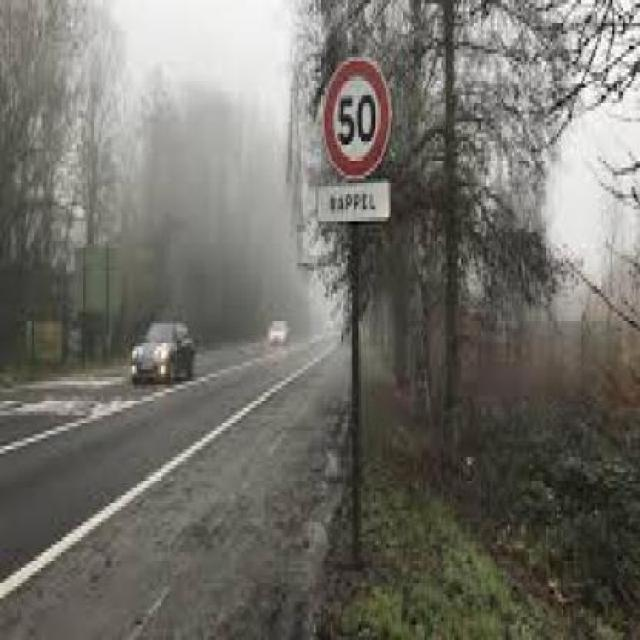forb_speed_over_50: (323, 57, 389, 175)
